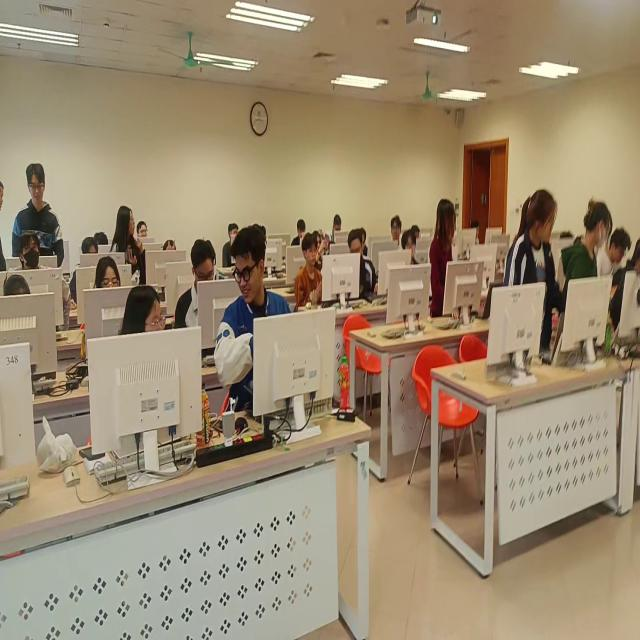raise_head: (17, 222, 46, 277), (389, 205, 404, 259), (138, 209, 152, 254)
stand: (505, 170, 560, 372), (563, 172, 614, 357), (13, 146, 66, 279), (427, 198, 461, 324), (110, 196, 139, 288)
using_computer: (175, 232, 217, 342), (83, 256, 123, 356), (598, 209, 633, 302), (294, 225, 326, 326), (344, 227, 380, 314), (70, 231, 101, 309), (4, 270, 35, 342), (402, 220, 420, 285), (159, 220, 182, 264), (329, 209, 344, 252), (293, 215, 309, 251), (94, 223, 109, 261), (471, 217, 482, 256), (409, 218, 423, 248)
